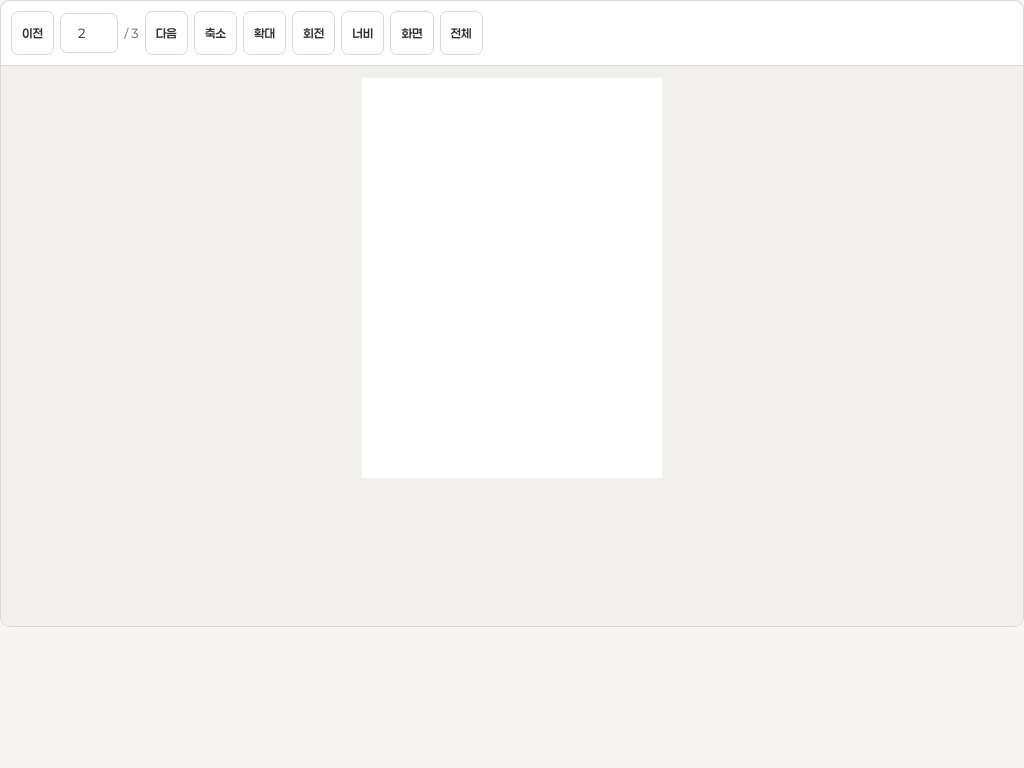
Given a cover page When the teacher navigates to it Then it is visibly excluded from grading
The image size is (1024, 768).
expect the number field named "PDF 페이지" is shown: met, box [60,13,118,53]
Click the button with aria-label "이전 페이지": click(33, 33) [11,11,54,55]
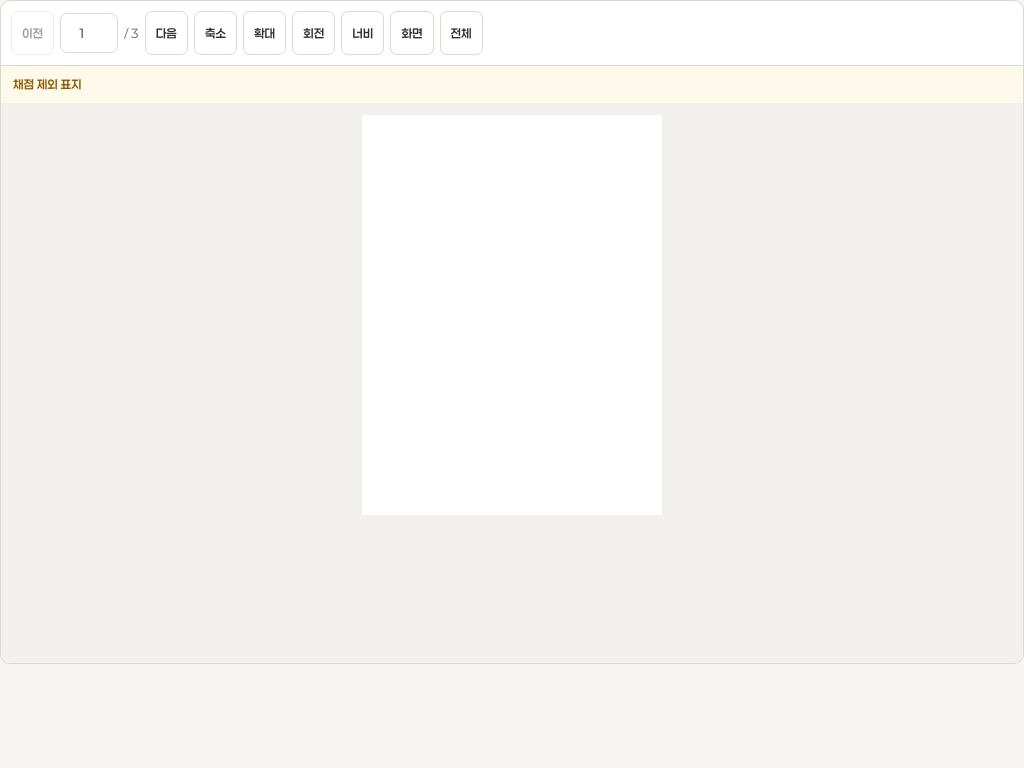
expect the text "채점 제외 표지" is shown: met, box [1,66,1023,103]
